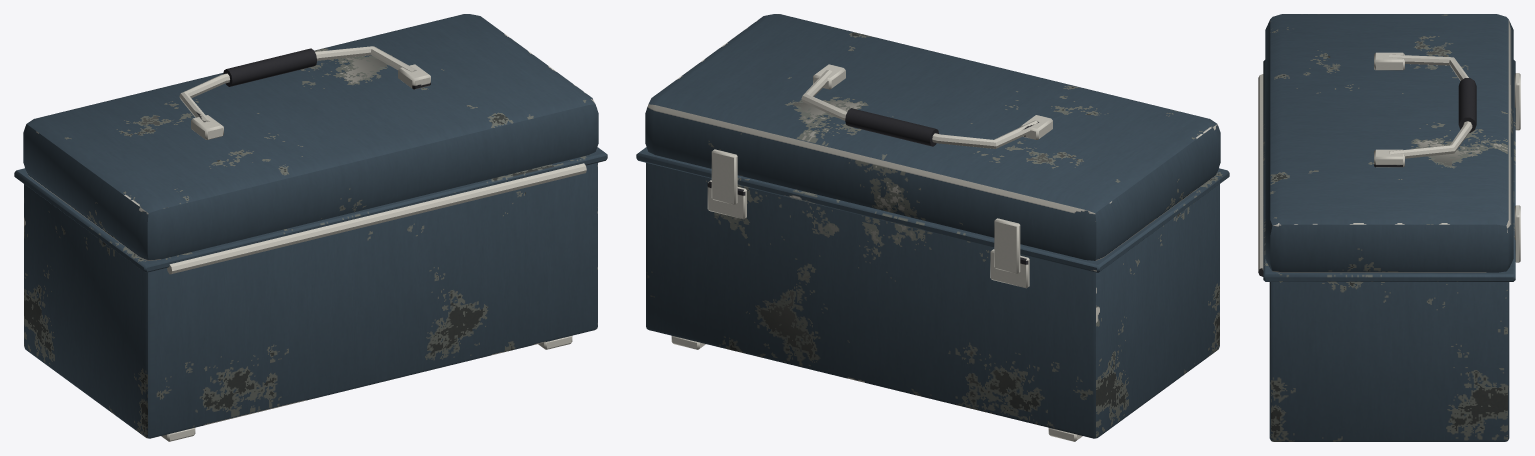
The model's file is LSB_ENV_PRP_Toolbox_v01.fbx.
3 views of the same model, side by side, from view 1: azimuth 30°, elevation 25°; view 2: azimuth 150°, elevation 25°; view 3: azimuth 270°, elevation 25° (orthographic). The views are drawn at different scales.
Parts seen in each view (by area): view 1: Toolbox; view 2: Toolbox; view 3: Toolbox.
Part boxes in pixels (bbox=[...]): Toolbox: bbox=[14, 14, 607, 441]; Toolbox: bbox=[636, 14, 1229, 441]; Toolbox: bbox=[1258, 14, 1520, 441].
Size of the model in its own units: 0.492 by 0.2641 by 0.252.
